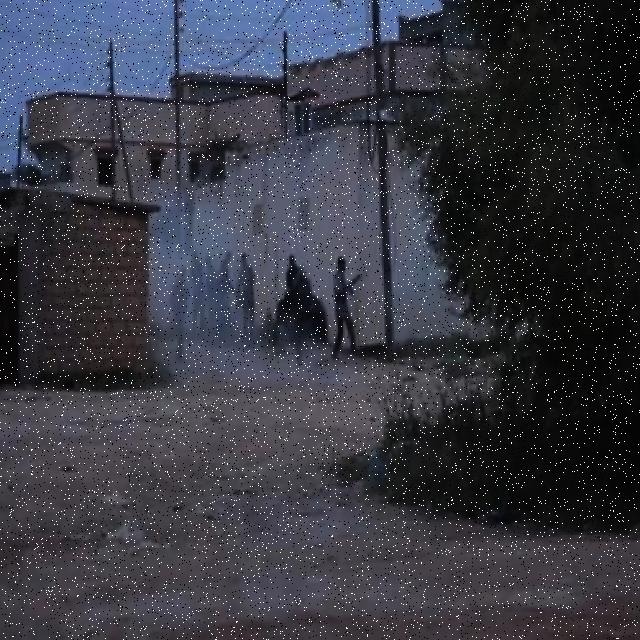Rifle: (346, 273, 362, 297)
